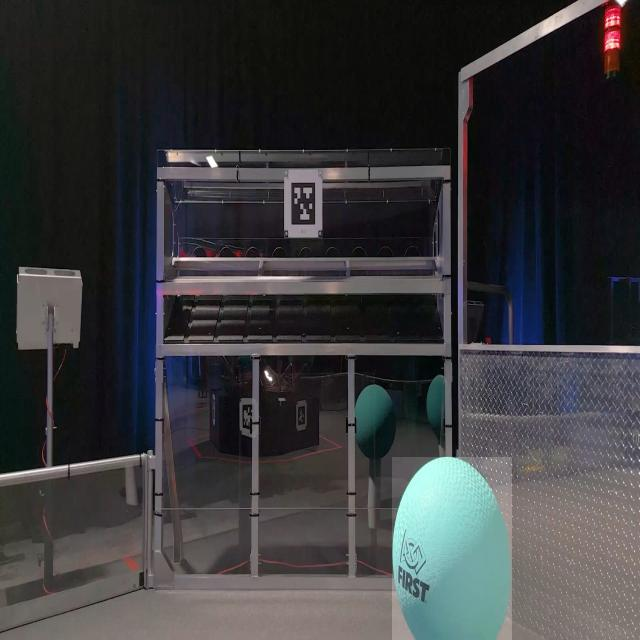Algae: (392, 457, 512, 640)
